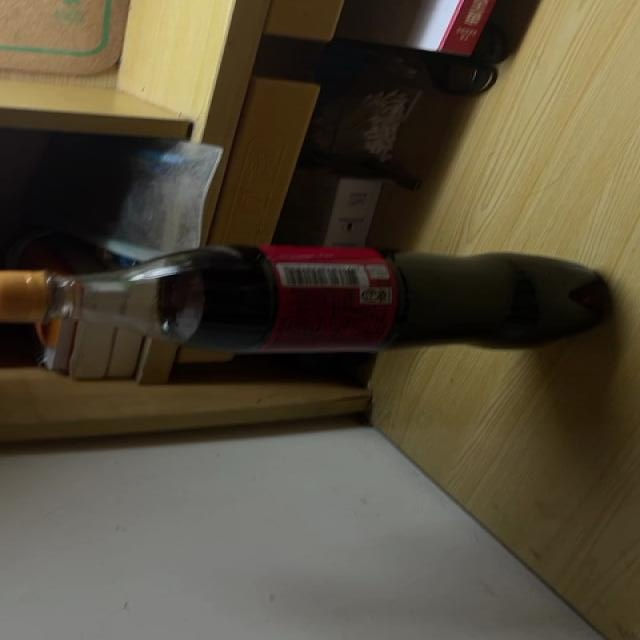Coca-Cola: (0, 249, 604, 352)
